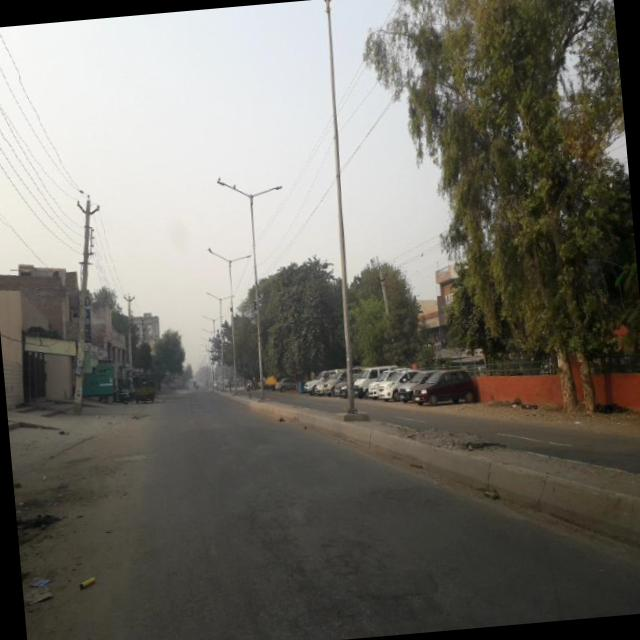pothole: (228, 484, 422, 640)
